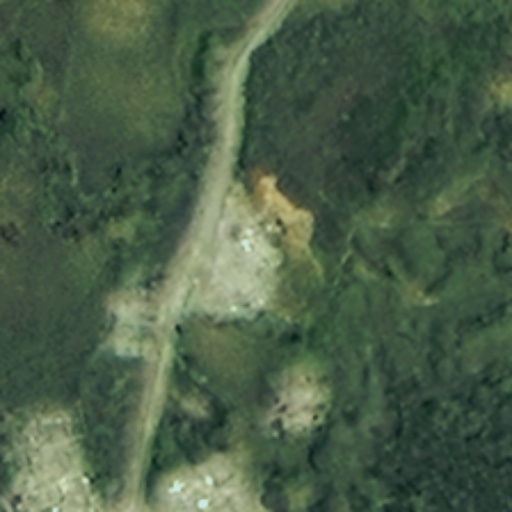landslide: (196, 174, 312, 318)
